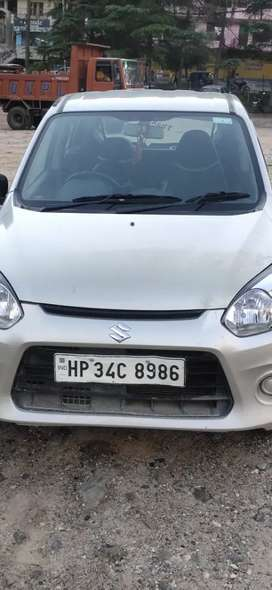HP34C8986: (54, 354, 185, 385)
